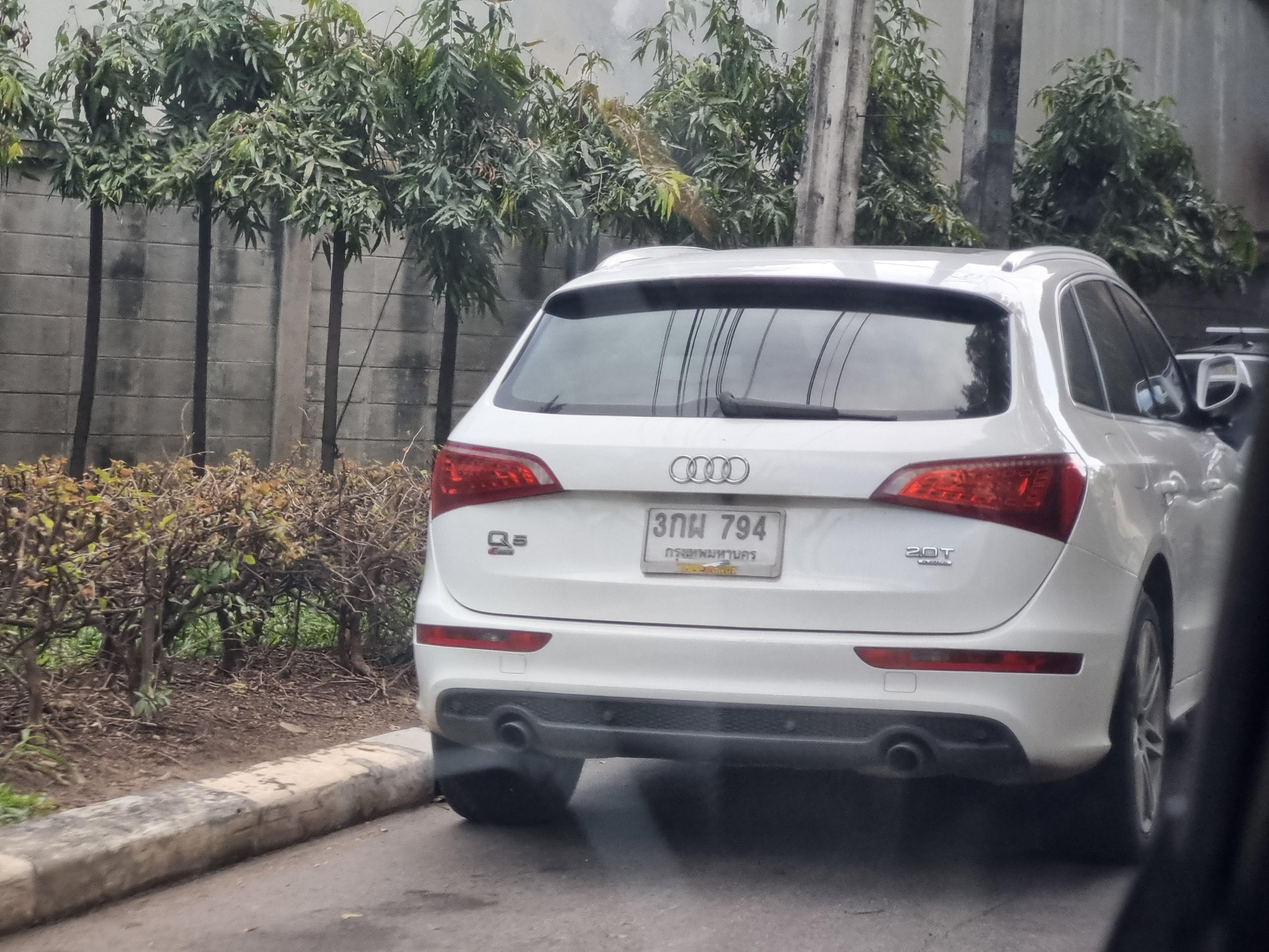license-plate: (640, 482, 790, 585)
